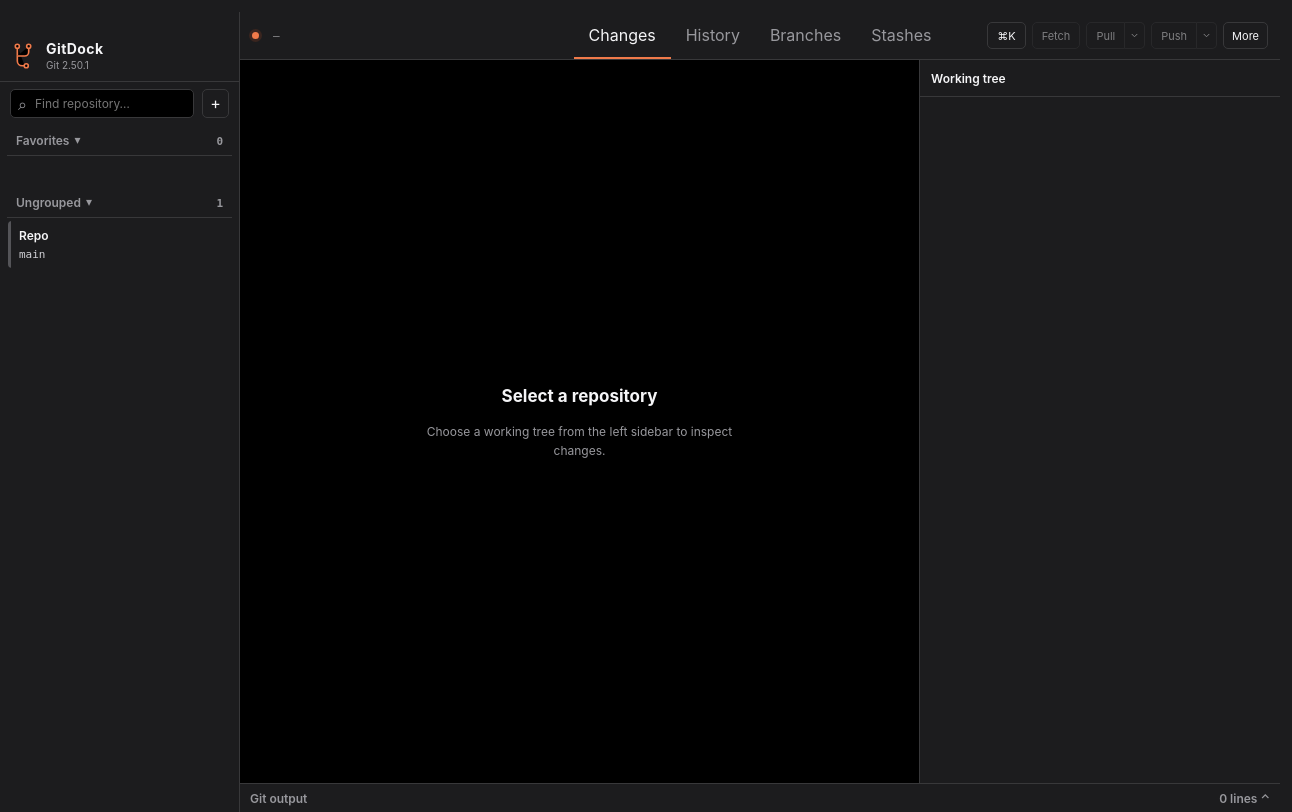
Test: selecting a repository copies working tree counts onto the list row
The width and height of the screenshot is (1292, 812).
What coordinates should you click on to do the following:
click the button with class "repo-row"
I would click on:
 (120, 244)
Its box is [7,220,232,269].
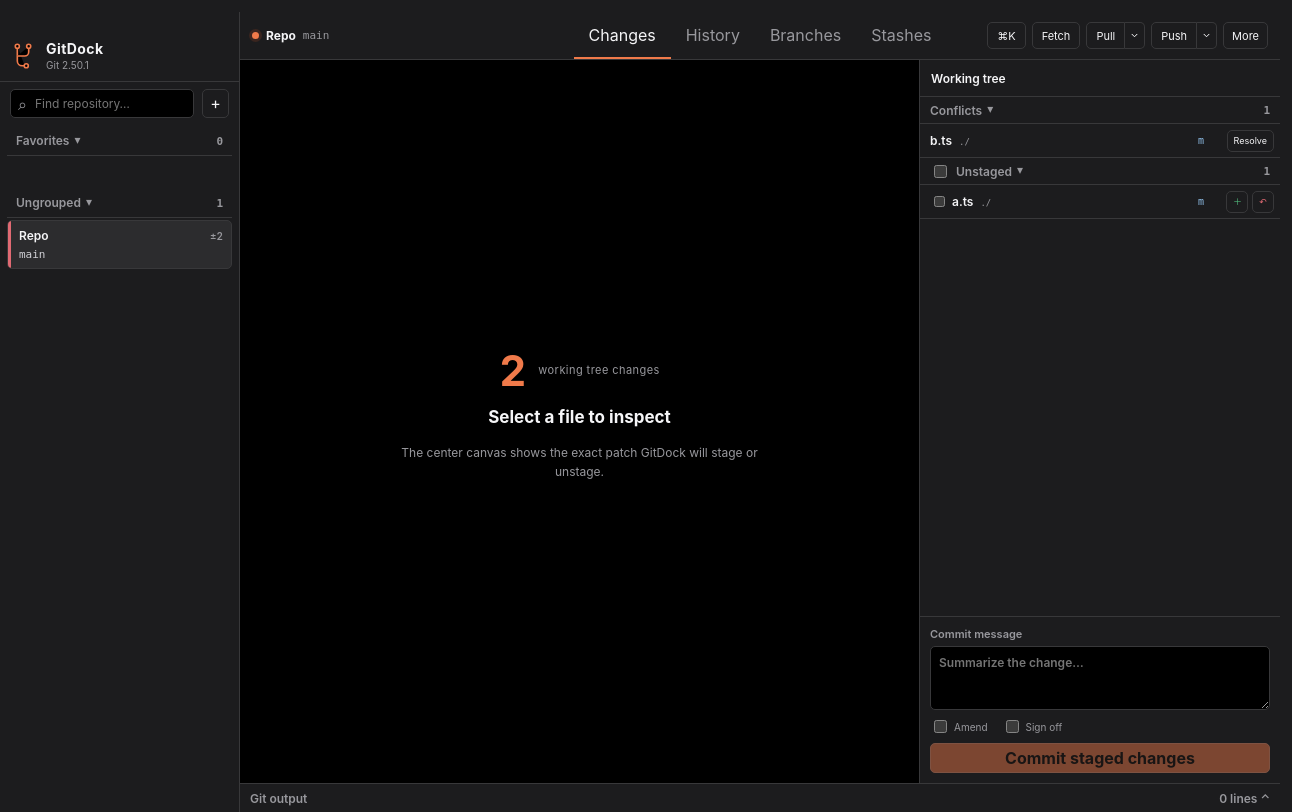
Now the text "a.ts" is shown, box [952,194,974,209]
Now the button "Repo ±2 main" is shown, box [7,220,232,269]
Now the element with class "conflict" is shown, box [8,221,11,268]
